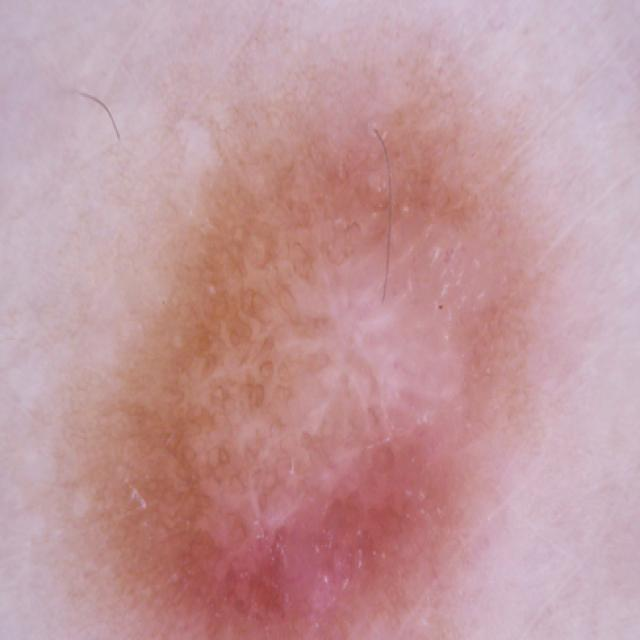Dermatofibroma: (77, 80, 596, 640)
